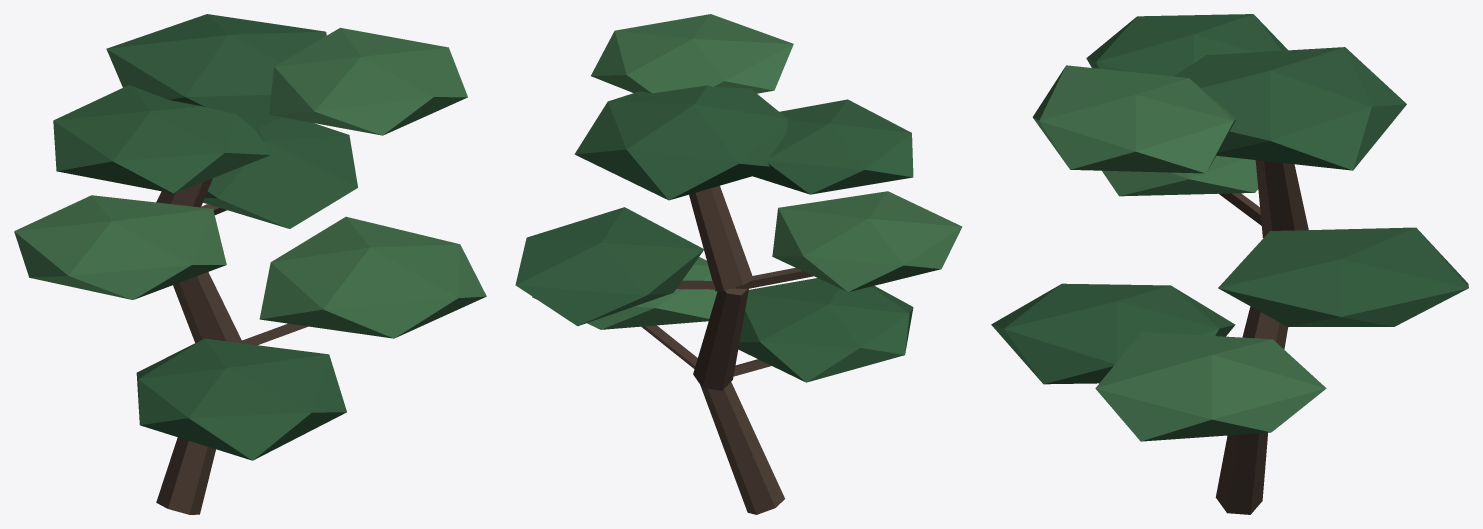
Rendered from tall_jp_2.glb.
3 renders of one model, left to right at view 1: azimuth 30°, elevation 25°; view 2: azimuth 150°, elevation 25°; view 3: azimuth 270°, elevation 25°, orthographic. The views are drawn at different scales.
Parts seen in each view (by area): view 1: tall_jp_2; view 2: tall_jp_2; view 3: tall_jp_2.
Boxes of the visible parts, <box> form: tall_jp_2: <box>14,14,486,514</box>; tall_jp_2: <box>515,14,962,514</box>; tall_jp_2: <box>991,14,1468,514</box>.
Bounding box in the file's own units: 6.73 × 6.74 × 6.09.
